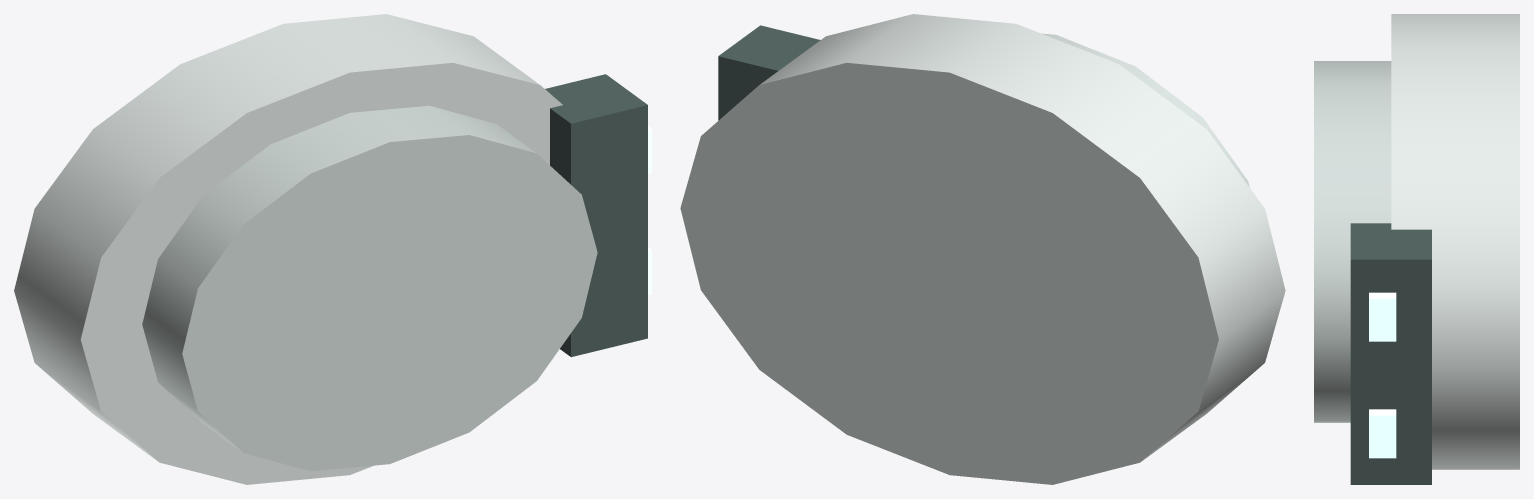
Rendered from chassis.glb.
3 views of the same model, side by side, from view 1: azimuth 30°, elevation 25°; view 2: azimuth 150°, elevation 25°; view 3: azimuth 270°, elevation 25° (orthographic). The views are drawn at different scales.
Visible parts, largest first — view 1: upper_hull, lower_hull, face_panel; view 2: lower_hull, face_panel, upper_hull; view 3: lower_hull, upper_hull, face_panel, eye_left, eye_right.
Part boxes in pixels (left/top/right/bottom): upper_hull: left=142, top=105, right=597, bottom=471; lower_hull: left=14, top=14, right=562, bottom=484; face_panel: left=545, top=74, right=647, bottom=357; lower_hull: left=680, top=14, right=1285, bottom=484; face_panel: left=718, top=25, right=820, bottom=120; upper_hull: left=1041, top=33, right=1249, bottom=187; lower_hull: left=1391, top=14, right=1519, bottom=469; upper_hull: left=1314, top=61, right=1391, bottom=422; face_panel: left=1350, top=223, right=1431, bottom=484; eye_left: left=1369, top=292, right=1396, bottom=341; eye_right: left=1369, top=409, right=1396, bottom=458.
Bounding box in the file's own units: 0.7275 × 0.5 × 0.24.
